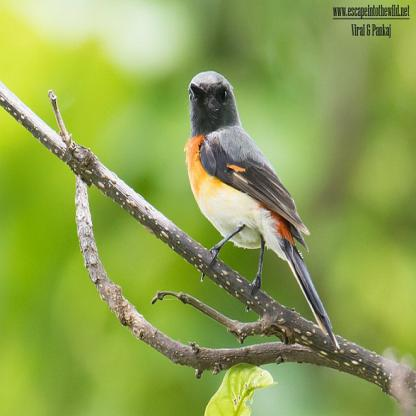Burung: (183, 70, 340, 348)
